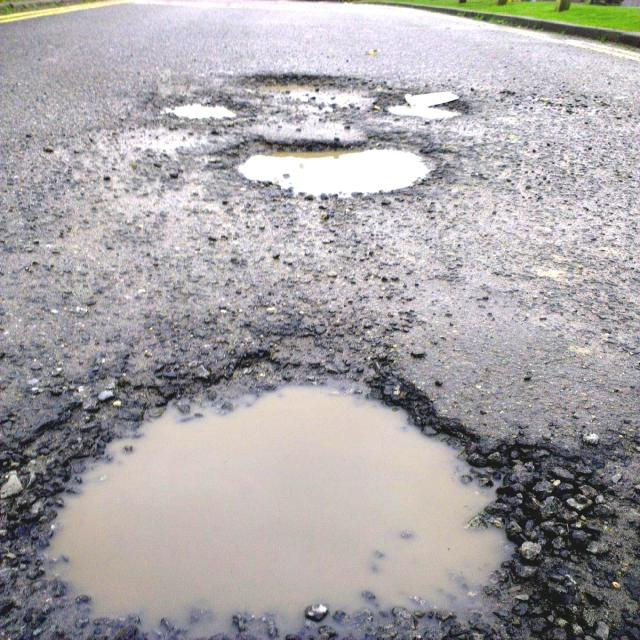pothole: (31, 348, 563, 632), (216, 134, 447, 203), (237, 69, 376, 108), (388, 89, 472, 124), (159, 97, 245, 122)
